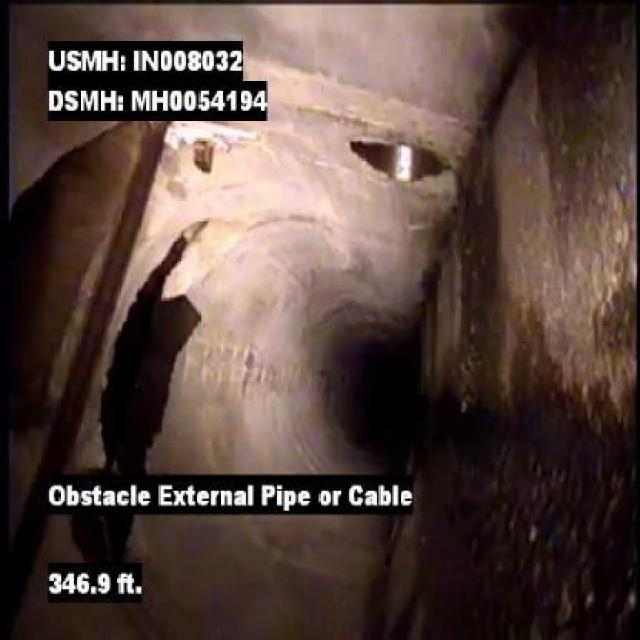Utility intrusion: (6, 119, 177, 626)
